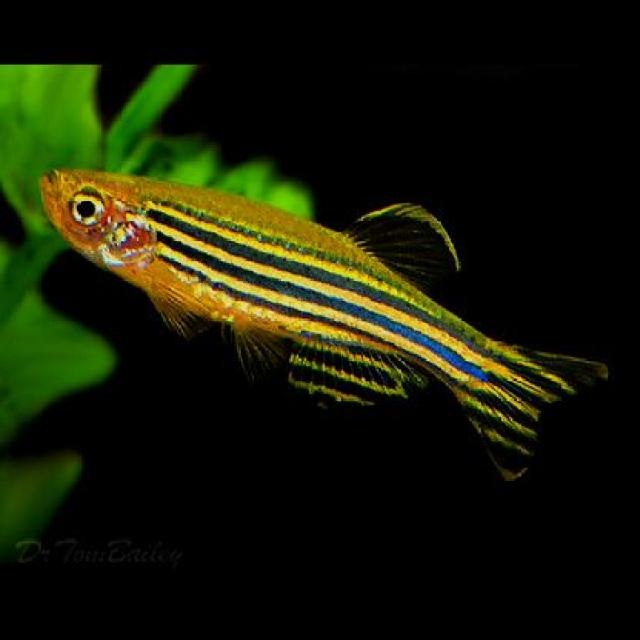ZebraFish: (47, 152, 608, 473)
